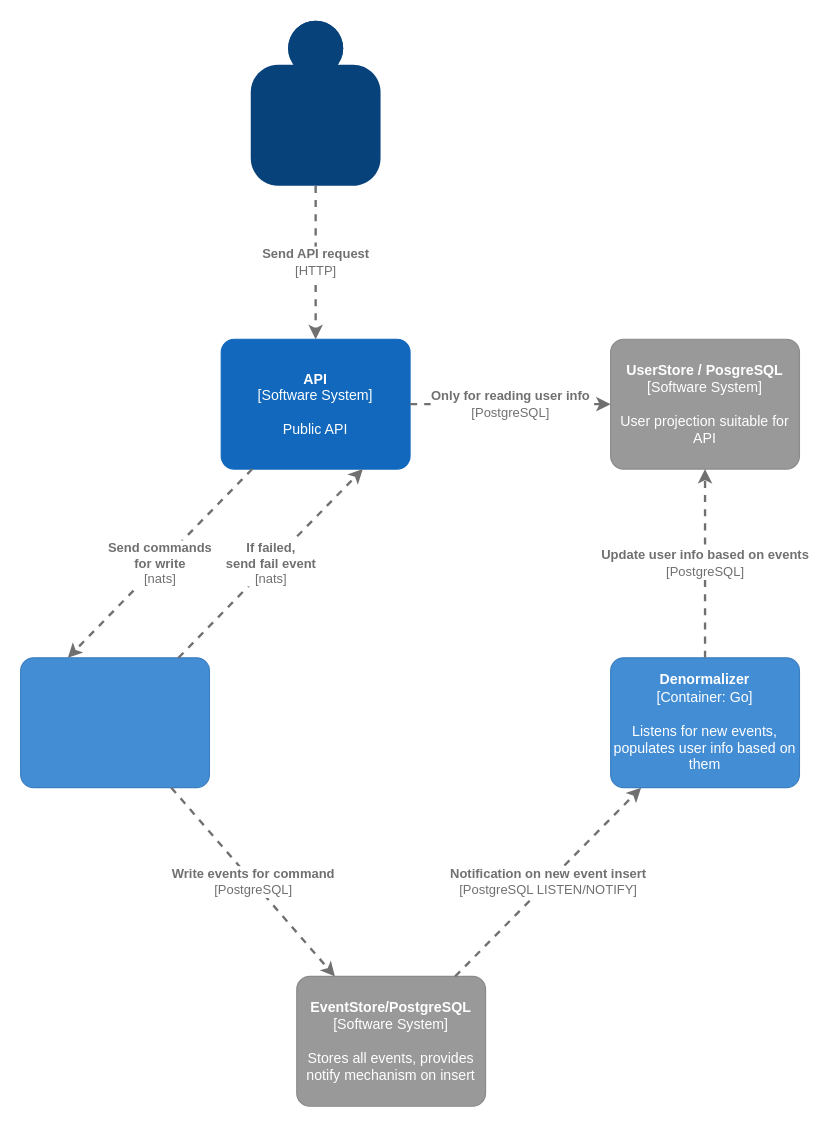
This 830x1127 diagram has some shape labels left out. Here are the shapes that lost their labels. From the top down, the centre of each, then its label:
At (315,102): "name [Person] Description".
At (114,722): "UserService [Container: Go] Manages user commands".
